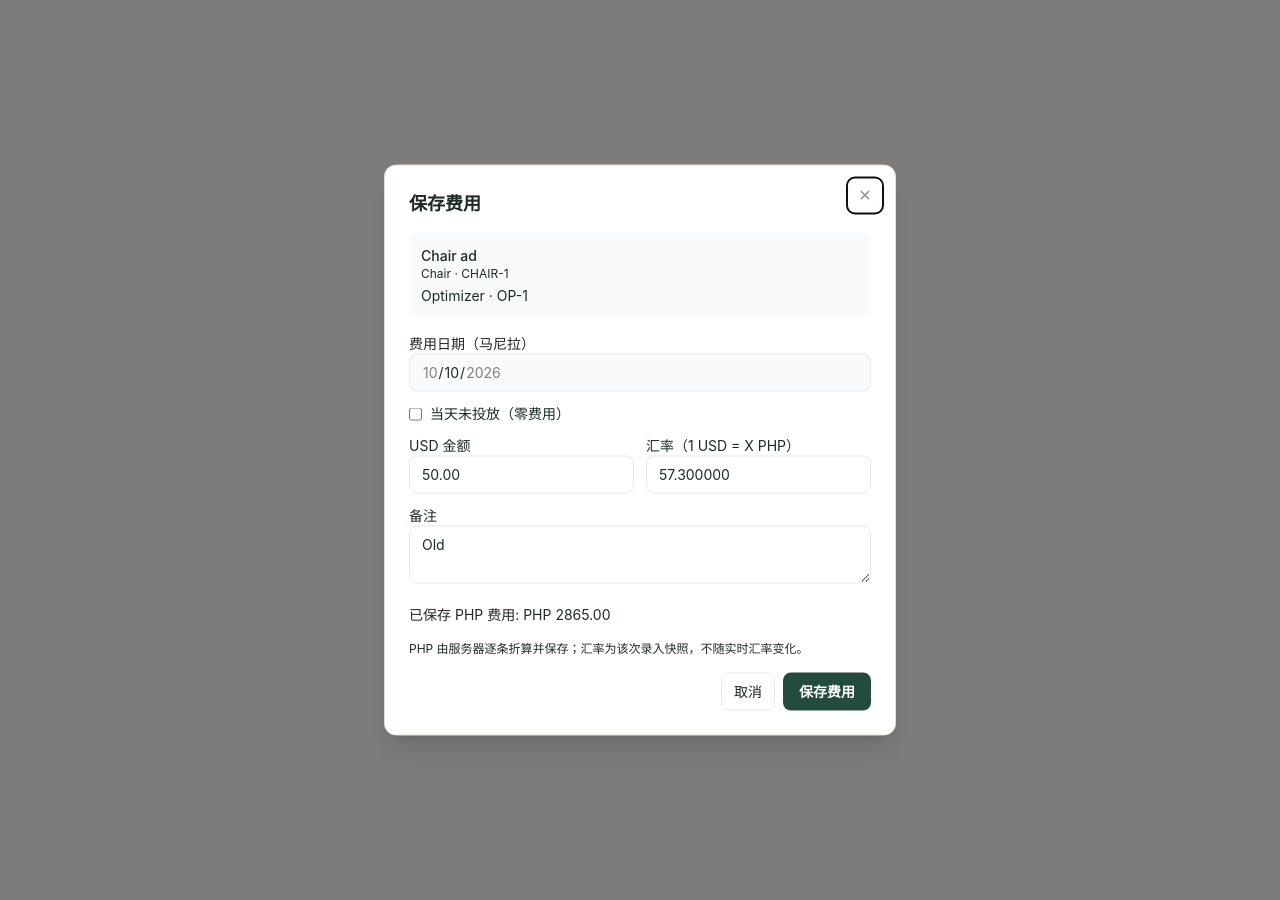
Test case: USD expense form › preserves a correction draft on409 and only loads the saved version after an explicit click
Check: the date field labelled "费用日期（马尼拉）" is disabled, box [409, 354, 871, 392]
Replace the text in the field labelled "USD 金额" with "66.00" at point(522, 474), box [409, 456, 634, 494]
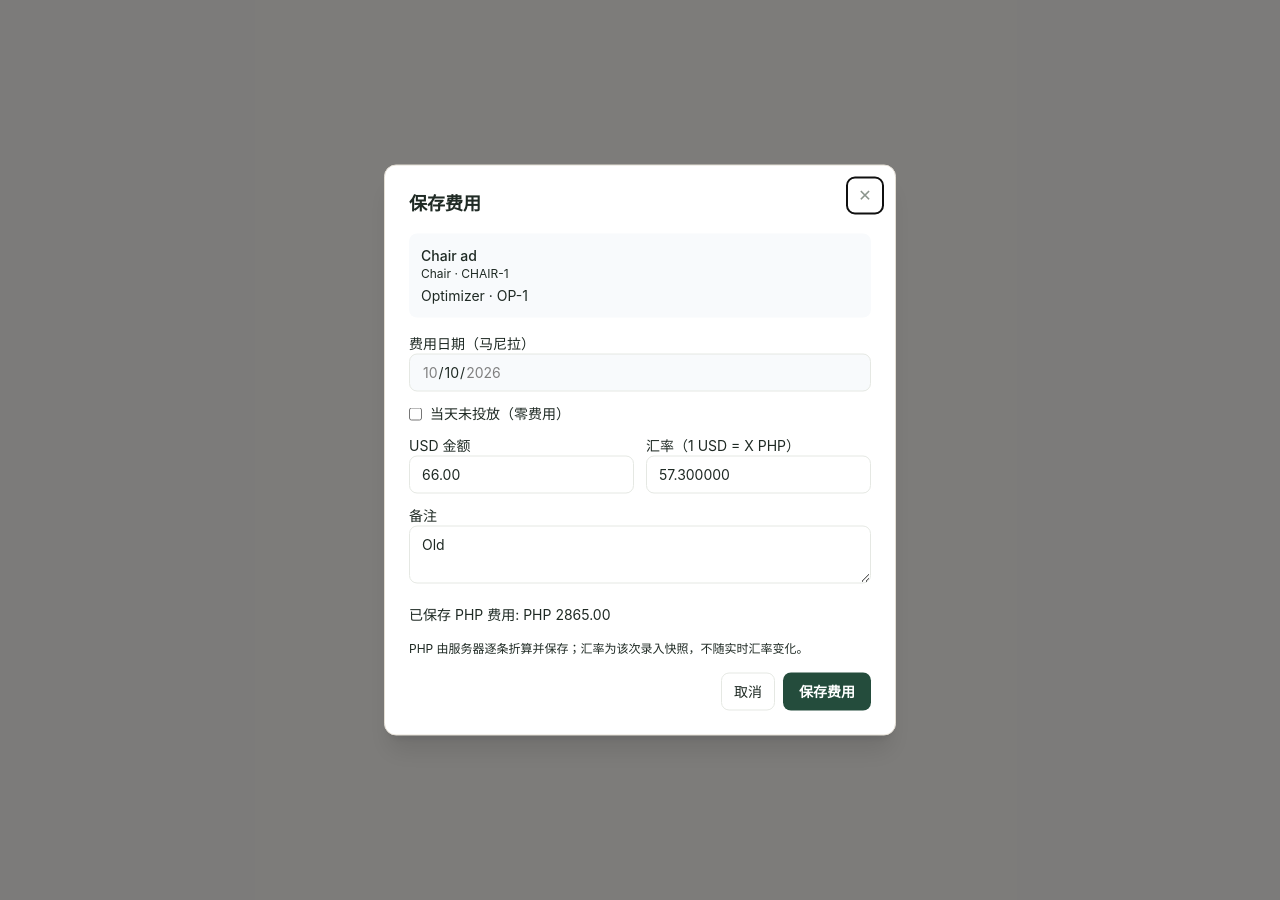
Click the button "保存费用" at point(827, 692), box [783, 672, 871, 710]
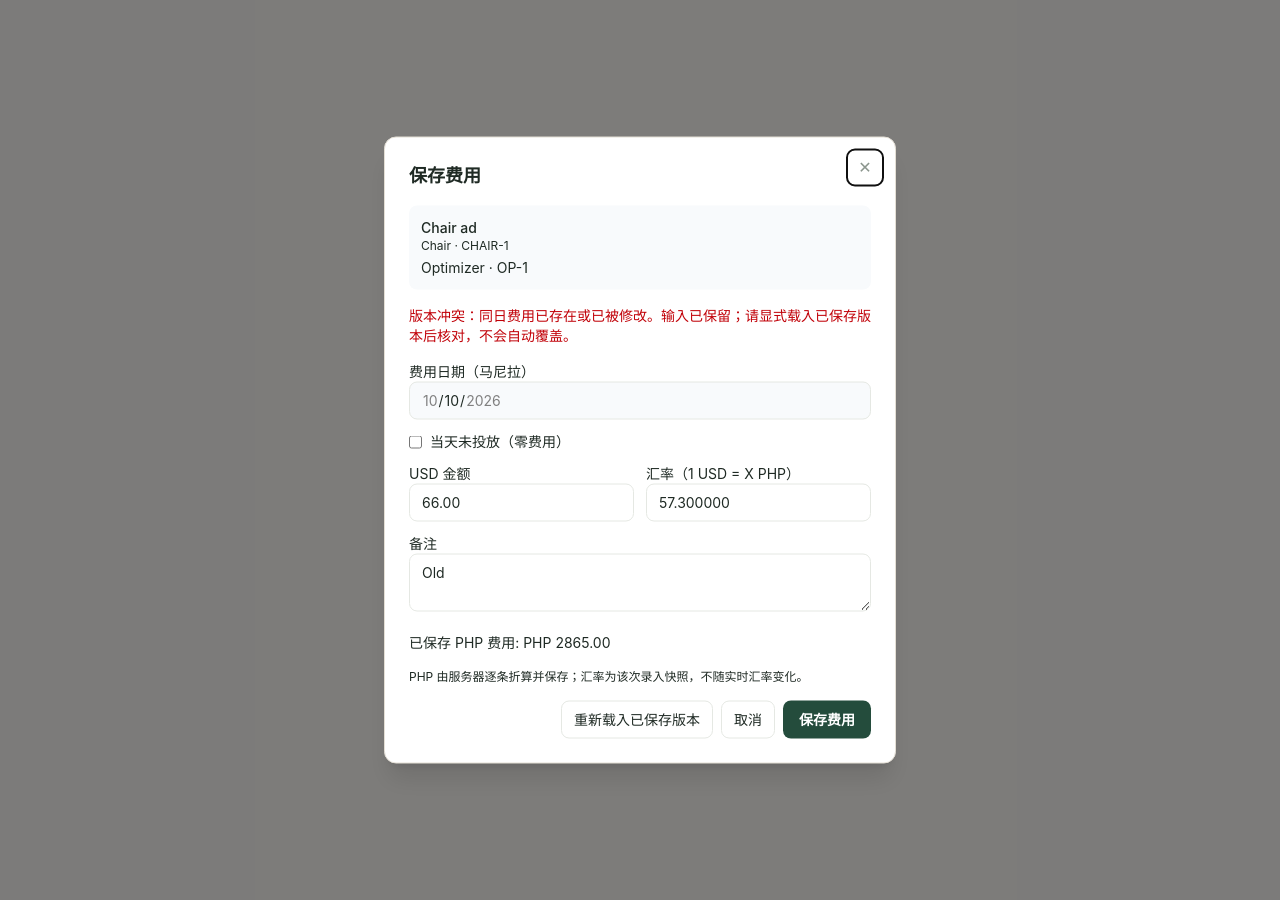
Check: the message shows "版本冲突", box [409, 306, 871, 344]
Click the button "重新载入已保存版本" at point(637, 720), box [561, 700, 713, 738]
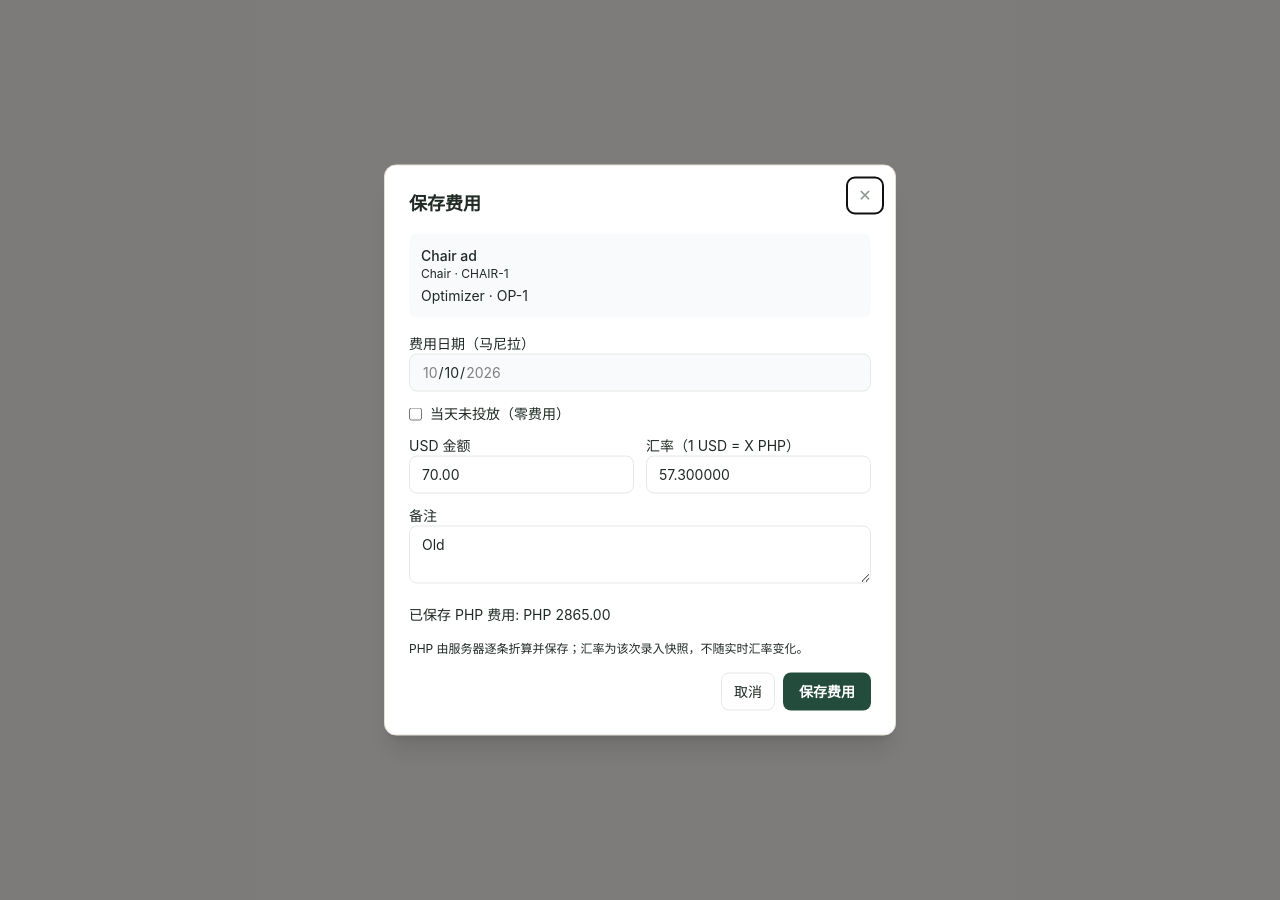
Check: the field labelled "USD 金额" holds "70.00", box [409, 456, 634, 494]
